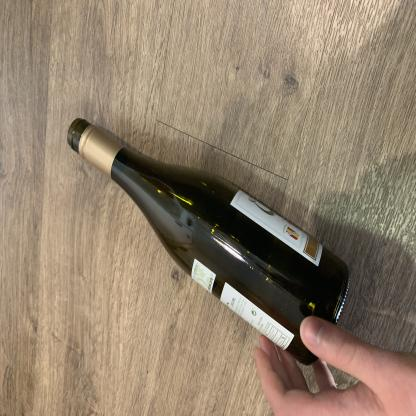trash: (48, 155, 264, 416)
